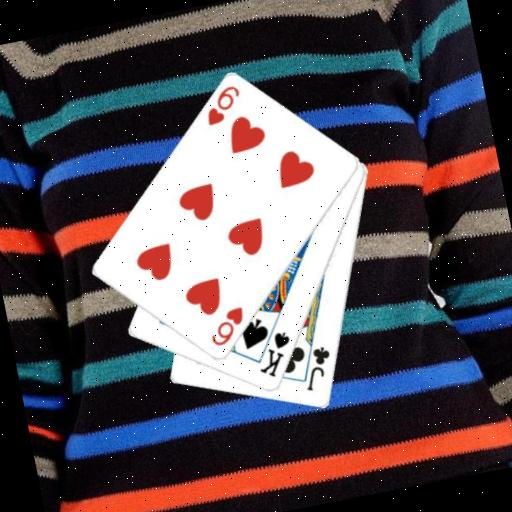6H: (198, 82, 247, 129), (203, 303, 250, 350)
JC: (296, 343, 338, 395)
KS: (250, 327, 299, 382)
